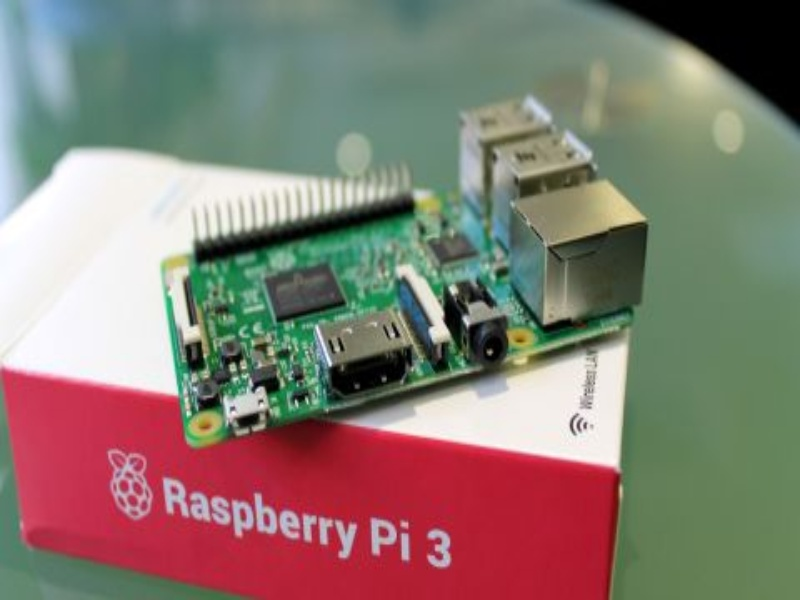raspberrypi: (143, 85, 674, 438)
